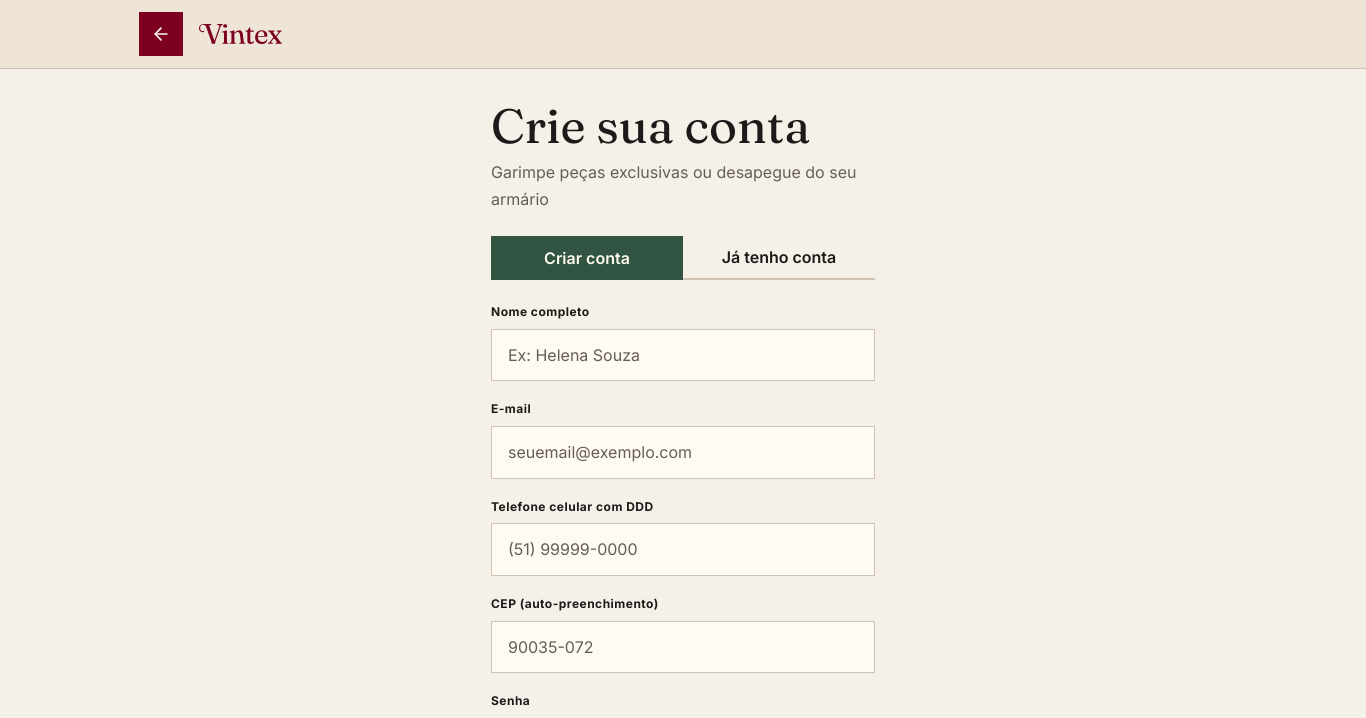
Test case: <Register /> › mostra "CEP não encontrado" quando a busca não acha endereço
The width and height of the screenshot is (1366, 718).
Type "00000000" into the field labelled "CEP (auto-preenchimento)" at (683, 647), box [491,620,875,673]
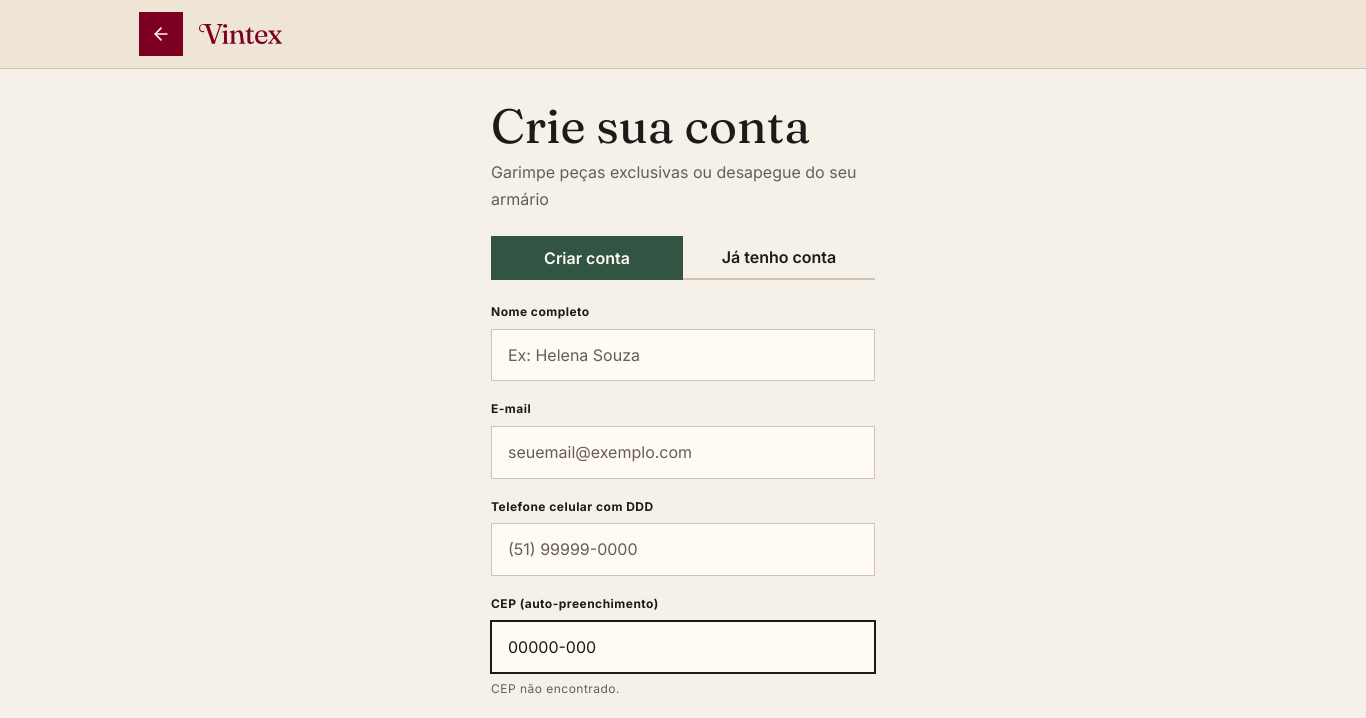
Expected: the text "CEP não encontrado." is shown, [491,681,620,696]
